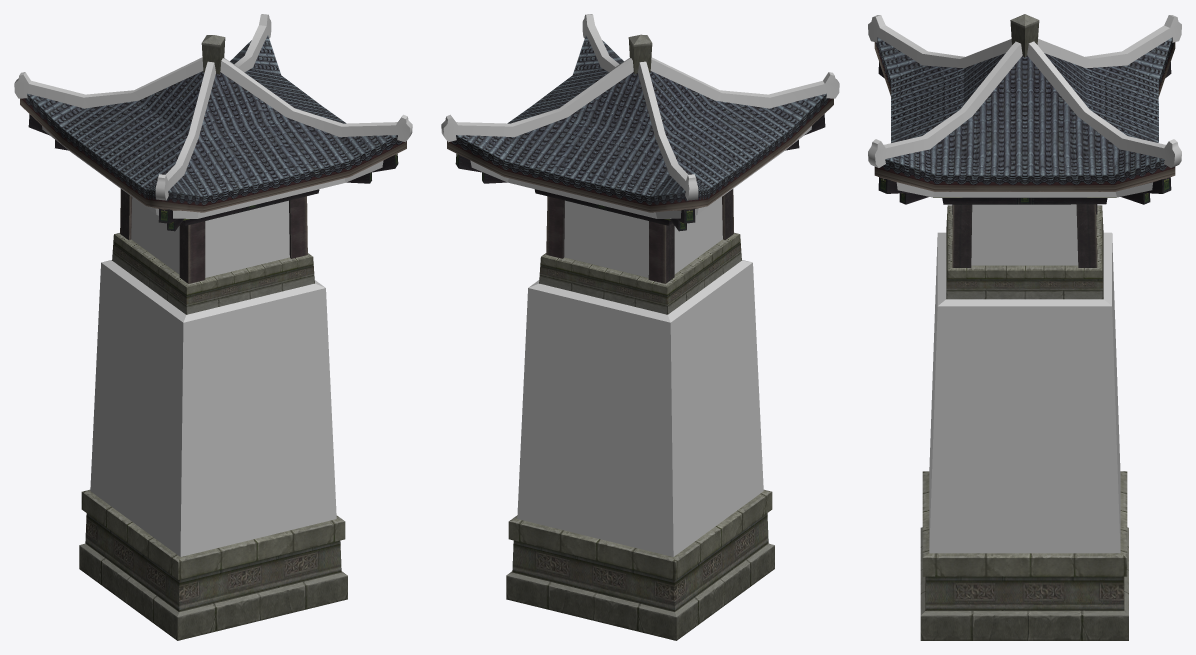
The model's file is JiaYeSi_TaLou_1.FBX.
The picture shows the model from 3 angles, left to right: view 1: azimuth 30°, elevation 25°; view 2: azimuth 150°, elevation 25°; view 3: azimuth 270°, elevation 25°; orthographic projection. The views are drawn at different scales.
Parts seen in each view (by area): view 1: JiaYeSi_TaLou_1h, JiaYeSi_TaLou_1a, JiaYeSi_TaLou_1c, JiaYeSi_TaLou_1b, JiaYeSi_TaLou_1g, JiaYeSi_TaLou_1f, JiaYeSi_TaLou_1d, Object01; view 2: JiaYeSi_TaLou_1h, JiaYeSi_TaLou_1a, JiaYeSi_TaLou_1c, JiaYeSi_TaLou_1b, JiaYeSi_TaLou_1g, JiaYeSi_TaLou_1f, JiaYeSi_TaLou_1d, Object01; view 3: JiaYeSi_TaLou_1h, JiaYeSi_TaLou_1c, JiaYeSi_TaLou_1a, JiaYeSi_TaLou_1b, JiaYeSi_TaLou_1g, JiaYeSi_TaLou_1f, JiaYeSi_TaLou_1d, Object01.
Boxes of the visible parts, left/top/right/bottom form: JiaYeSi_TaLou_1h: left=90, top=260, right=336, bottom=556; JiaYeSi_TaLou_1a: left=79, top=35, right=347, bottom=640; JiaYeSi_TaLou_1c: left=20, top=35, right=406, bottom=212; JiaYeSi_TaLou_1b: left=14, top=14, right=412, bottom=200; JiaYeSi_TaLou_1g: left=131, top=197, right=289, bottom=277; JiaYeSi_TaLou_1f: left=120, top=189, right=319, bottom=283; JiaYeSi_TaLou_1d: left=42, top=126, right=396, bottom=218; Object01: left=28, top=114, right=398, bottom=231; JiaYeSi_TaLou_1h: left=517, top=260, right=763, bottom=556; JiaYeSi_TaLou_1a: left=506, top=34, right=774, bottom=640; JiaYeSi_TaLou_1c: left=447, top=35, right=833, bottom=212; JiaYeSi_TaLou_1b: left=441, top=14, right=839, bottom=200; JiaYeSi_TaLou_1g: left=564, top=197, right=722, bottom=277; JiaYeSi_TaLou_1f: left=534, top=189, right=733, bottom=283; JiaYeSi_TaLou_1d: left=457, top=126, right=811, bottom=218; Object01: left=455, top=114, right=825, bottom=231; JiaYeSi_TaLou_1h: left=929, top=232, right=1120, bottom=553; JiaYeSi_TaLou_1c: left=874, top=37, right=1175, bottom=191; JiaYeSi_TaLou_1a: left=920, top=14, right=1128, bottom=640; JiaYeSi_TaLou_1b: left=868, top=15, right=1181, bottom=167; JiaYeSi_TaLou_1g: left=971, top=204, right=1078, bottom=265; JiaYeSi_TaLou_1f: left=933, top=197, right=1116, bottom=267; JiaYeSi_TaLou_1d: left=883, top=178, right=1166, bottom=197; Object01: left=878, top=62, right=1171, bottom=204.
Bounding box in the file's own units: 826 × 1689 × 825.
